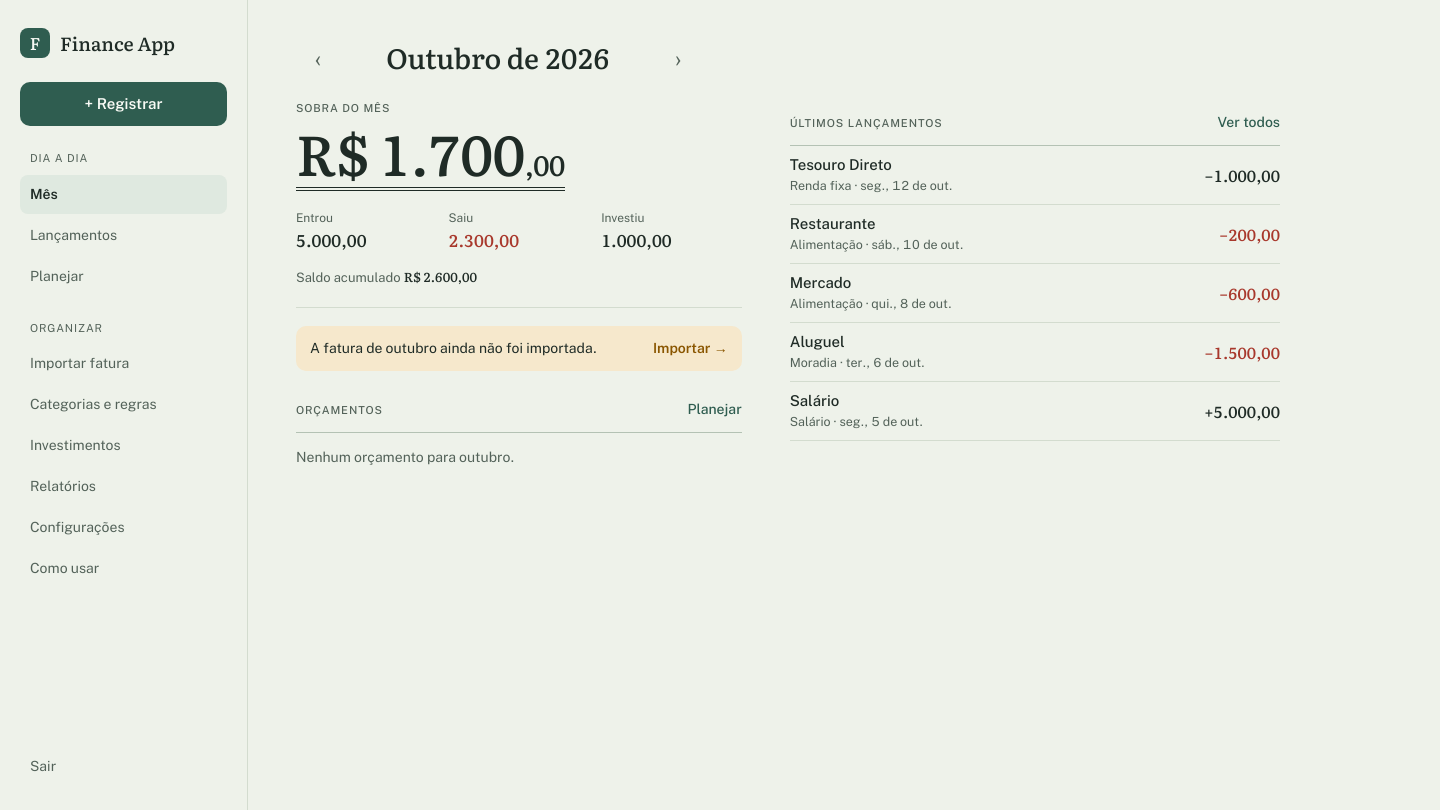
Test: Mês (página inicial) › tocar num lançamento abre a edição
Click the button with aria-label "Mercado," at (821, 283), box [790, 264, 1280, 322]
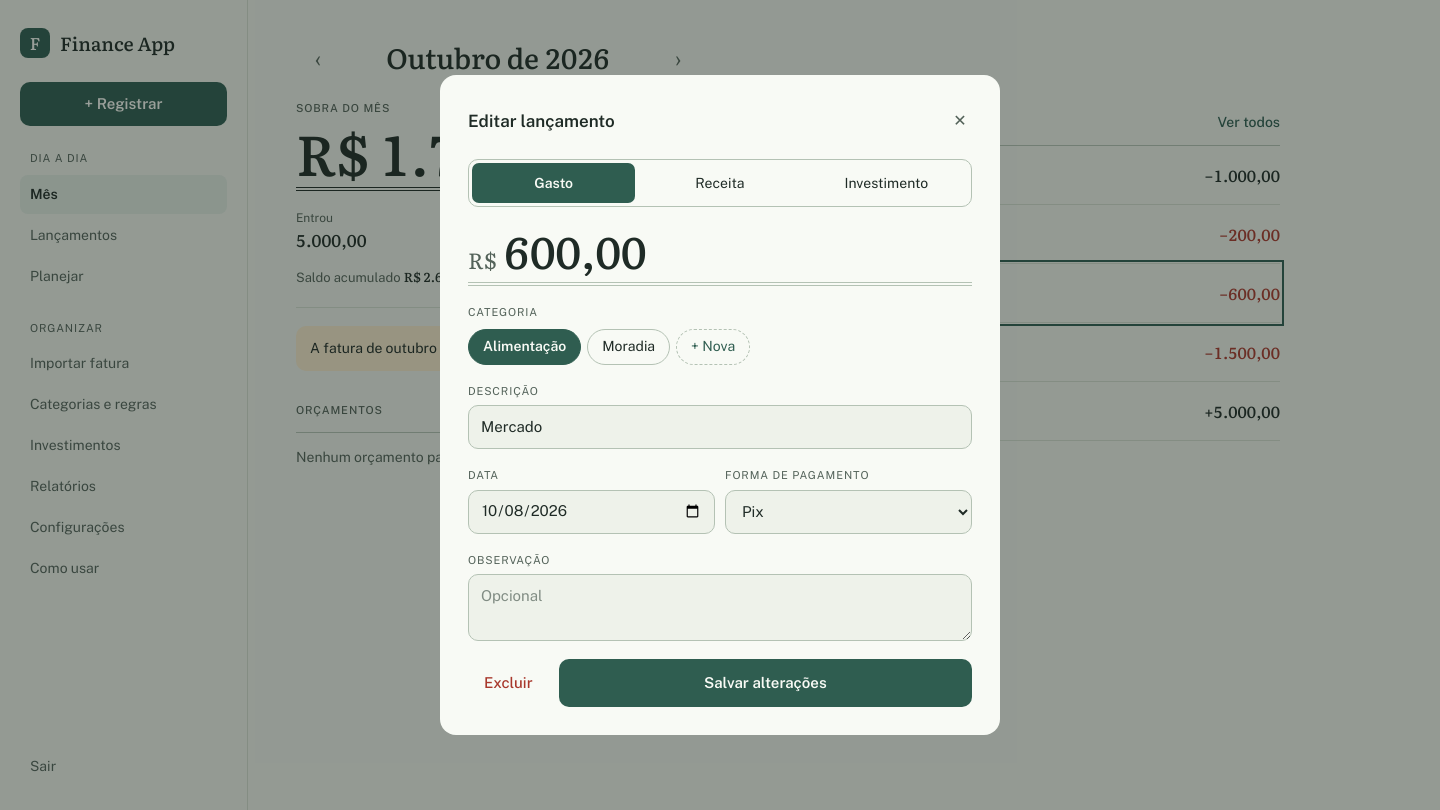
Check: the field labelled "Descrição" holds "Mercado", box [468, 405, 972, 449]
